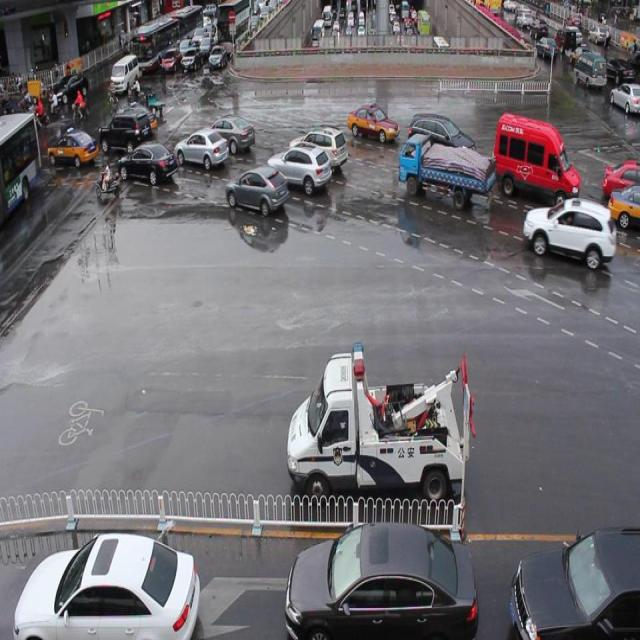bus: (288, 335, 476, 505), (398, 136, 494, 207)
car: (285, 522, 478, 640), (14, 528, 198, 640), (510, 526, 640, 640), (524, 199, 616, 267), (408, 108, 474, 160), (268, 140, 331, 194), (226, 165, 288, 215), (290, 124, 346, 176), (118, 142, 177, 184), (176, 128, 228, 171), (202, 114, 255, 155), (348, 100, 398, 136), (603, 154, 640, 197), (608, 180, 640, 227)
truck: (492, 107, 580, 202)
